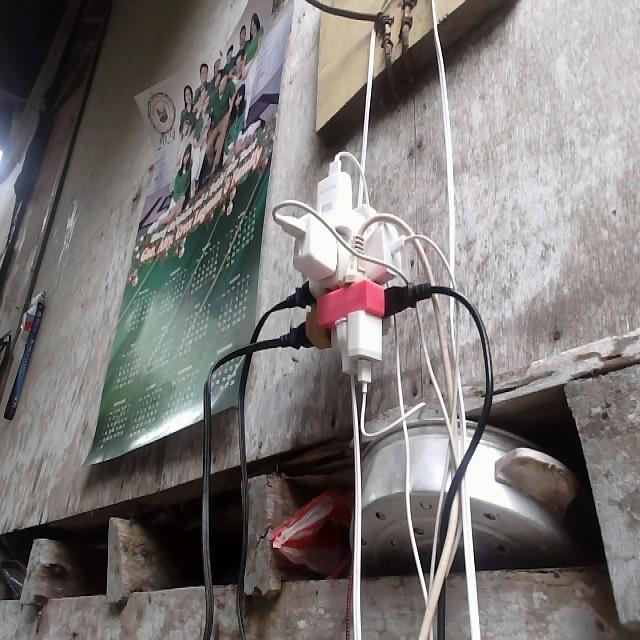-: (275, 152, 416, 387)
